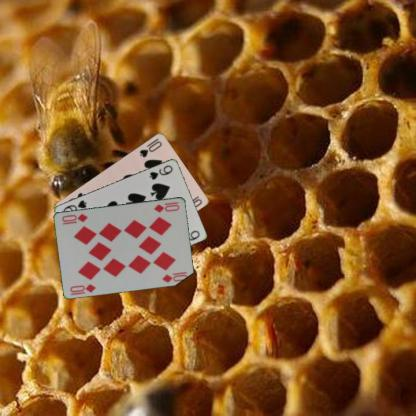10d: (151, 199, 181, 214), (68, 282, 97, 294)
10s: (137, 136, 163, 158)
9s: (147, 162, 174, 181)
